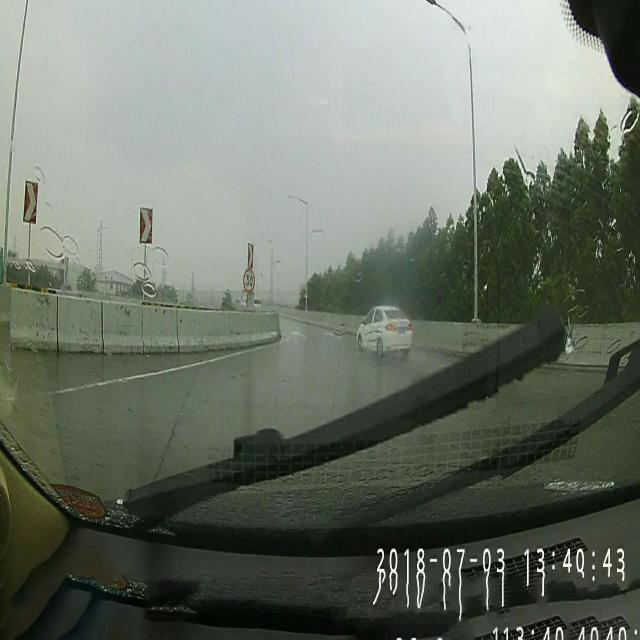car: (356, 304, 412, 360)
